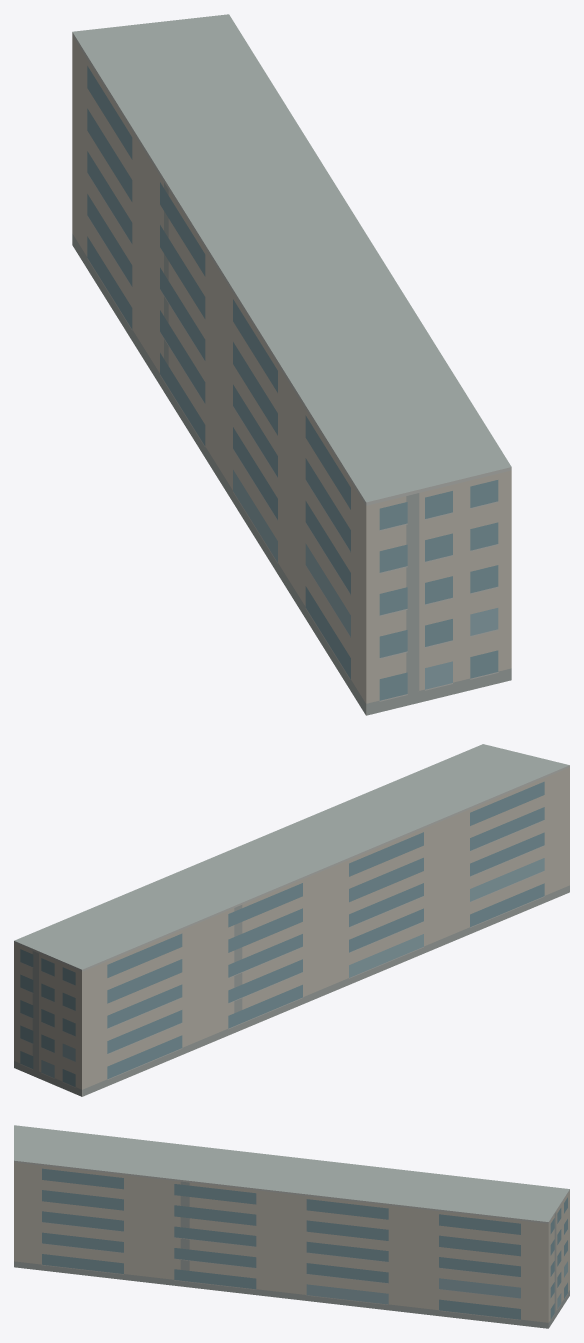
Rendered from residential-0eaf152e-1ac6-4513-a5f8-c3f7ffe6f237.glb.
3 renders of one model, top to bottom at view 1: azimuth 30°, elevation 25°; view 2: azimuth 150°, elevation 25°; view 3: azimuth 270°, elevation 25°, orthographic. The views are drawn at different scales.
Parts seen in each view (by area): view 1: residential-0eaf152e-1ac6-4513-a5f8-c3f7ffe6f237.tmp; view 2: residential-0eaf152e-1ac6-4513-a5f8-c3f7ffe6f237.tmp; view 3: residential-0eaf152e-1ac6-4513-a5f8-c3f7ffe6f237.tmp.
Part boxes in pixels (x1=…): residential-0eaf152e-1ac6-4513-a5f8-c3f7ffe6f237.tmp: x1=72, y1=14, x2=511, y2=715; residential-0eaf152e-1ac6-4513-a5f8-c3f7ffe6f237.tmp: x1=14, y1=744, x2=569, y2=1096; residential-0eaf152e-1ac6-4513-a5f8-c3f7ffe6f237.tmp: x1=14, y1=1125, x2=569, y2=1328.
Size of the model in its own units: 29.76 by 15.25 by 72.08.
